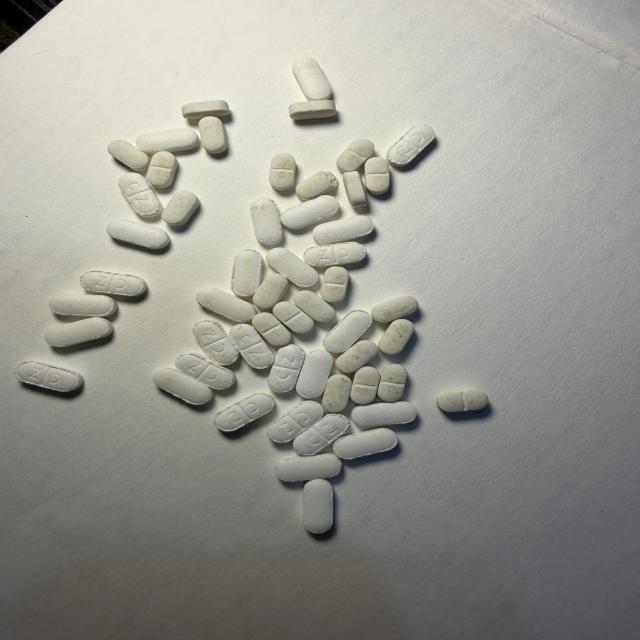pill: (268, 401, 324, 443), (293, 414, 349, 455), (215, 393, 275, 431), (176, 353, 235, 389), (323, 310, 371, 353), (45, 317, 113, 347), (229, 324, 274, 369), (333, 428, 398, 459), (16, 362, 83, 392), (193, 321, 238, 365), (266, 248, 318, 286), (281, 195, 339, 229), (197, 288, 255, 322), (387, 125, 434, 166), (119, 173, 162, 217), (107, 219, 170, 249), (276, 454, 342, 482), (296, 350, 333, 399), (268, 345, 305, 392), (352, 401, 416, 428), (313, 216, 374, 244), (80, 271, 147, 296), (293, 57, 331, 100), (303, 480, 333, 534), (136, 128, 198, 154), (250, 198, 283, 245), (304, 242, 366, 266), (50, 294, 117, 316), (231, 250, 262, 296), (336, 340, 377, 373), (294, 290, 335, 322), (162, 191, 199, 226), (252, 313, 291, 346), (273, 302, 314, 333), (108, 140, 149, 171), (379, 319, 414, 354), (337, 139, 374, 172), (296, 171, 338, 200), (372, 296, 418, 322), (253, 274, 288, 308), (436, 390, 488, 412), (378, 364, 407, 402), (323, 374, 351, 413), (147, 152, 177, 188), (351, 367, 380, 404), (199, 116, 227, 154), (321, 267, 348, 303), (269, 153, 295, 190), (182, 100, 230, 119), (365, 158, 390, 194), (289, 100, 336, 119), (343, 172, 367, 207)
